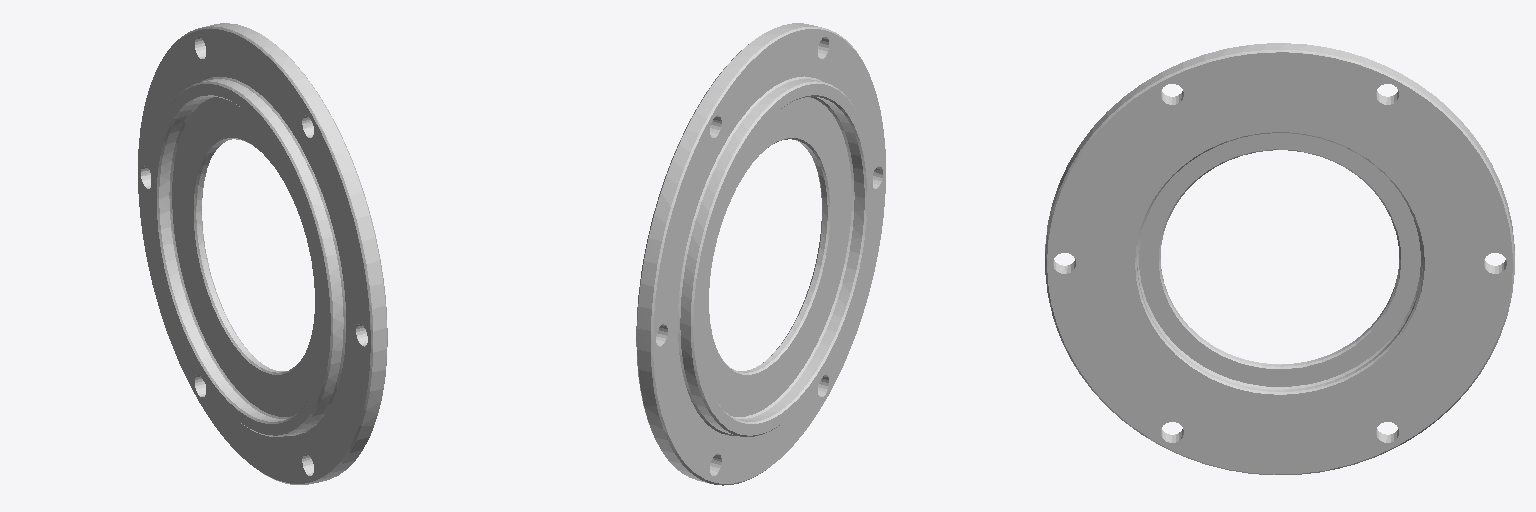
The model's file is ImageToStl_com_61_kryshka_podshipnika_perednyaya_so_storony_vsasyvania.obj.
3 renders of one model, left to right at view 1: azimuth 30°, elevation 25°; view 2: azimuth 150°, elevation 25°; view 3: azimuth 270°, elevation 25°, orthographic.
Parts seen in each view (by area): view 1: imagetostl_mesh0; view 2: imagetostl_mesh0; view 3: imagetostl_mesh0.
Part boxes in pixels (x1,y1,x2,y2): imagetostl_mesh0: (138,23,387,484); imagetostl_mesh0: (636,23,885,485); imagetostl_mesh0: (1045,43,1514,474).
Size of the model in its own units: 18 by 240 by 240.